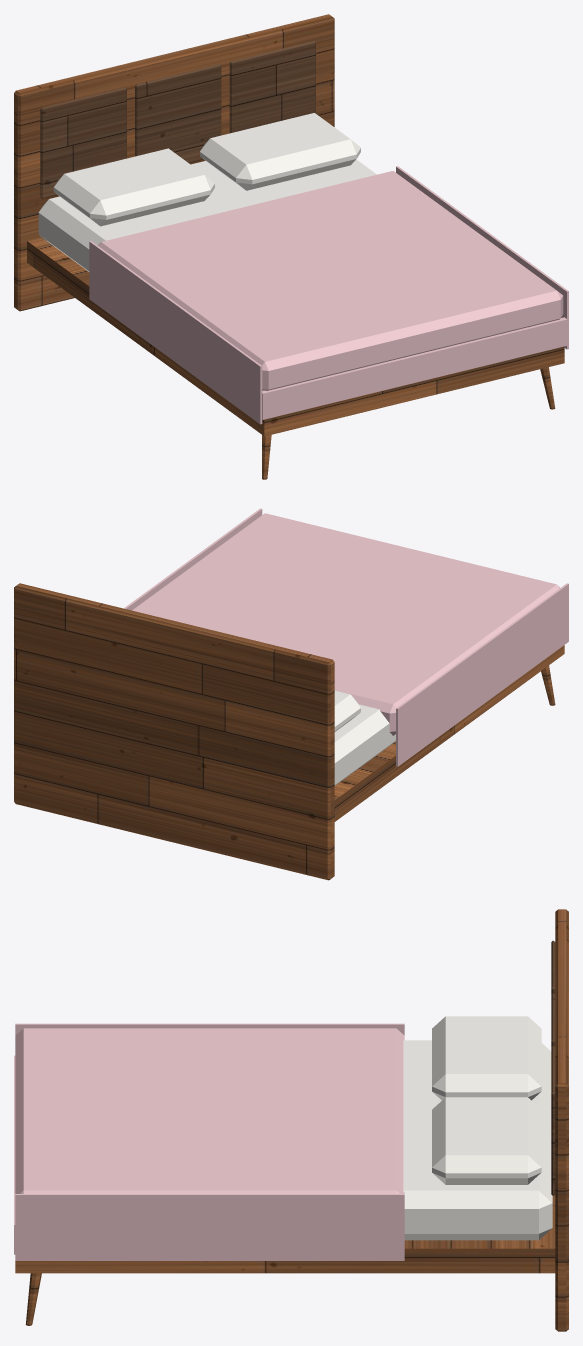
Rendered from bed_p.glb.
3 views of the same model, one above another, from view 1: azimuth 30°, elevation 25°; view 2: azimuth 150°, elevation 25°; view 3: azimuth 270°, elevation 25° (orthographic). The views are drawn at different scales.
Parts seen in each view (by area): view 1: bed_p_bed_p, bed_p_teak, bed_p_bed_w, bed_p_dkwood; view 2: bed_p_teak, bed_p_bed_p, bed_p_bed_w; view 3: bed_p_bed_p, bed_p_bed_w, bed_p_teak, bed_p_dkwood.
Boxes of the visible parts, x1,y1,x2,y2 form: bed_p_bed_p: [89, 166, 568, 424]; bed_p_teak: [14, 14, 564, 479]; bed_p_bed_w: [38, 113, 376, 271]; bed_p_dkwood: [40, 40, 315, 198]; bed_p_teak: [14, 583, 564, 880]; bed_p_bed_p: [124, 508, 568, 766]; bed_p_bed_w: [334, 690, 395, 785]; bed_p_bed_p: [14, 1023, 404, 1260]; bed_p_bed_w: [403, 1016, 552, 1240]; bed_p_teak: [15, 909, 568, 1331]; bed_p_dkwood: [551, 940, 555, 1195].
Size of the model in its own units: 1.52 by 1 by 2.03.
Materials: 4 (2 with a texture image).
